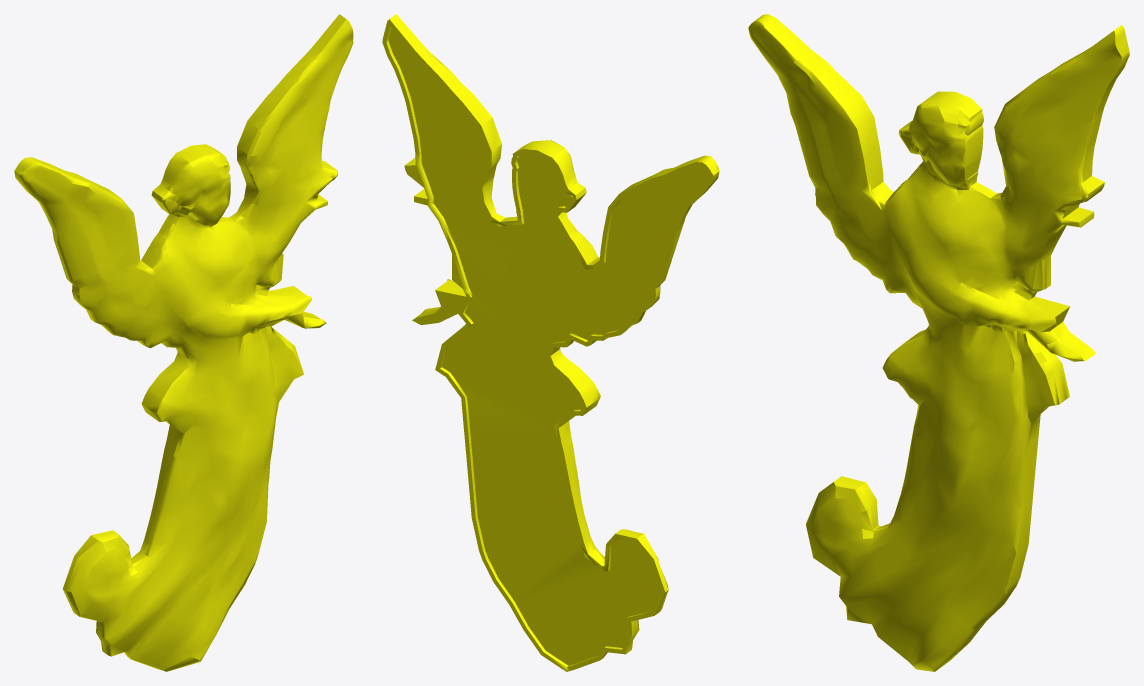
3 renders of one model, left to right at view 1: azimuth 30°, elevation 25°; view 2: azimuth 150°, elevation 25°; view 3: azimuth 330°, elevation 25°, orthographic. The views are drawn at different scales.
Visible parts, largest first — view 1: 1_Mesh_primitive_primitive; view 2: 1_Mesh_primitive_primitive; view 3: 1_Mesh_primitive_primitive.
Part boxes in pixels (x1,y1,x2,y2): 1_Mesh_primitive_primitive: (14,14,353,671); 1_Mesh_primitive_primitive: (382,14,719,671); 1_Mesh_primitive_primitive: (748,14,1129,671).
Size of the model in its own units: 0.1843 by 0.3242 by 0.0199.
Materials: 1 (1 with a texture image).
